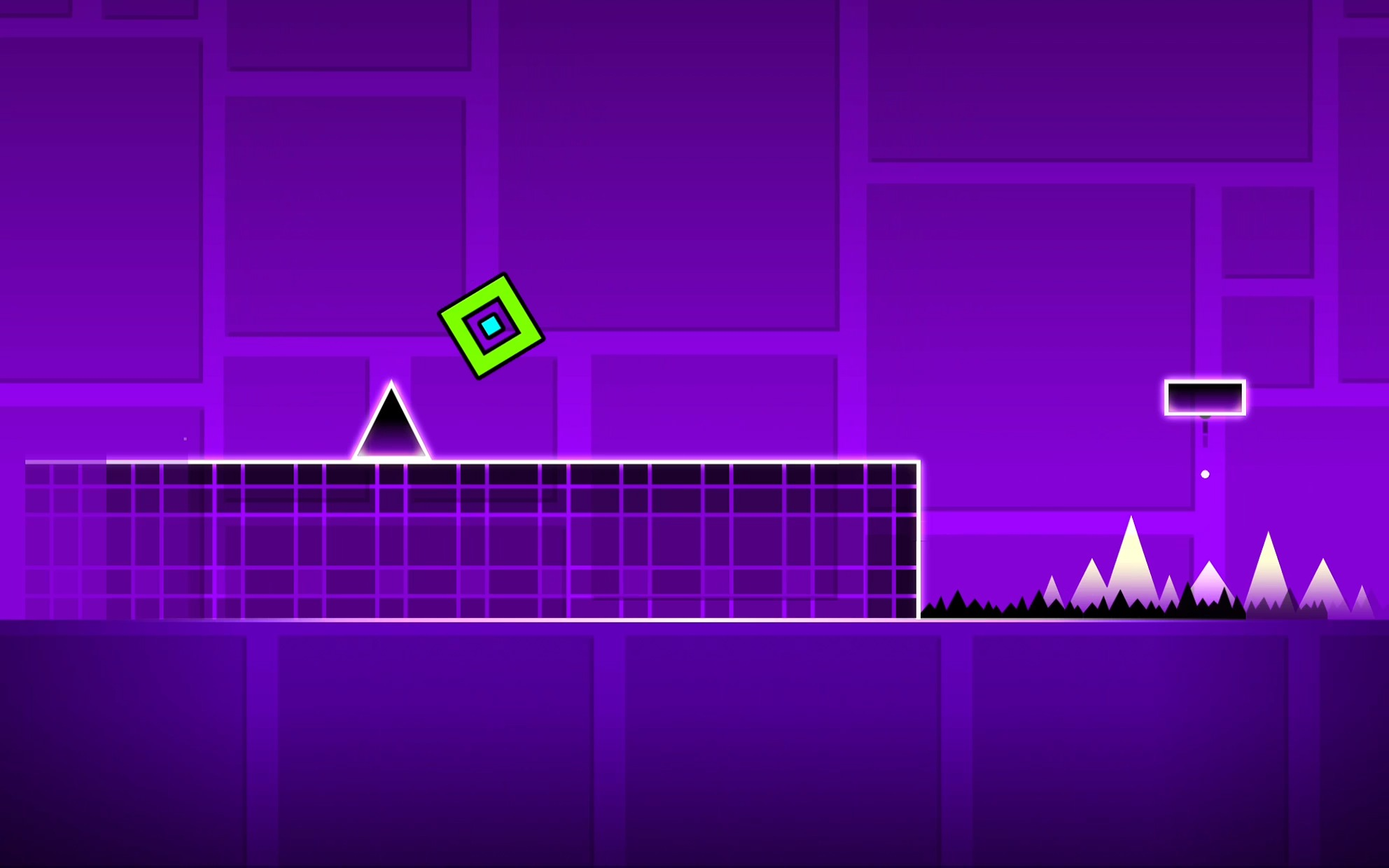Block2: (15, 456, 925, 610)
Block3: (1163, 378, 1246, 415)
Player: (438, 273, 543, 377)
Spike: (352, 381, 429, 458)
Spike3: (919, 581, 1379, 622)
